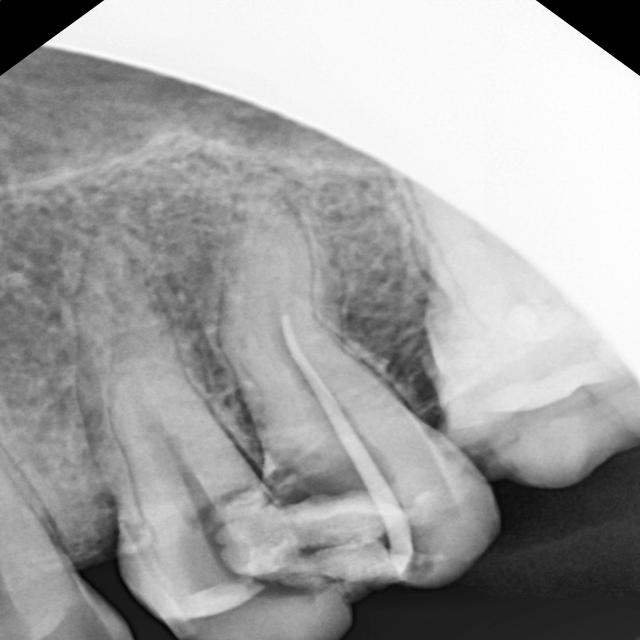RCT: (8, 150, 561, 640)
